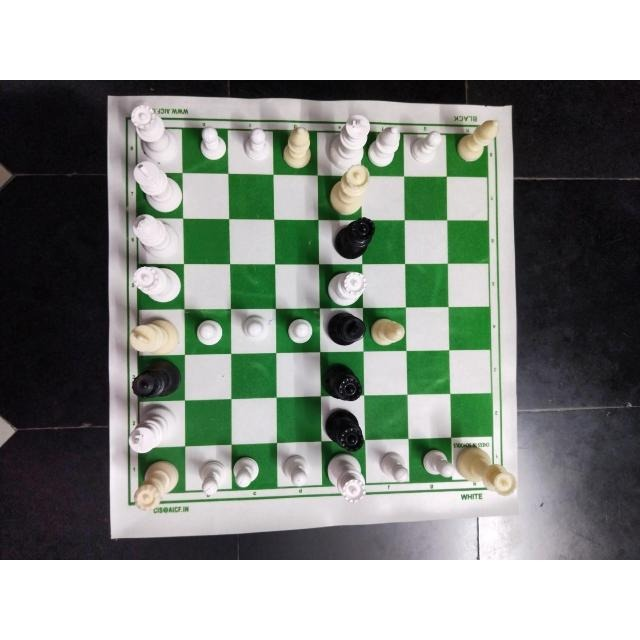black-king: (330, 311, 366, 355)
black-queen: (130, 362, 183, 398), (327, 408, 366, 452), (337, 215, 376, 258), (326, 366, 366, 404)
white-bishop: (457, 112, 502, 160), (371, 124, 407, 170), (281, 126, 315, 170), (367, 311, 408, 347)
white-king: (130, 163, 184, 215), (124, 405, 176, 452), (328, 113, 370, 165), (125, 316, 180, 352), (132, 217, 180, 258)
white-pawn: (191, 454, 231, 498), (278, 449, 314, 491), (420, 446, 460, 481), (378, 447, 411, 489), (233, 453, 265, 493), (410, 124, 441, 165), (239, 311, 272, 344), (283, 315, 316, 347), (242, 129, 272, 163), (196, 126, 228, 157), (194, 318, 224, 346)
white-queen: (455, 446, 518, 497), (131, 101, 185, 158), (129, 456, 179, 512), (128, 265, 181, 304), (323, 166, 367, 210), (327, 455, 367, 502), (322, 271, 370, 305)
